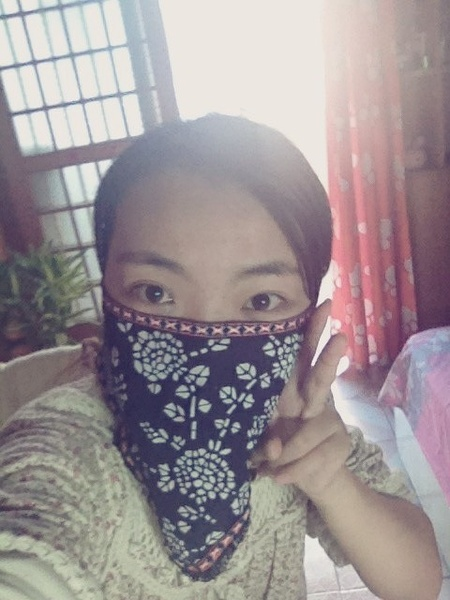face_mask: (106, 173, 311, 447)
